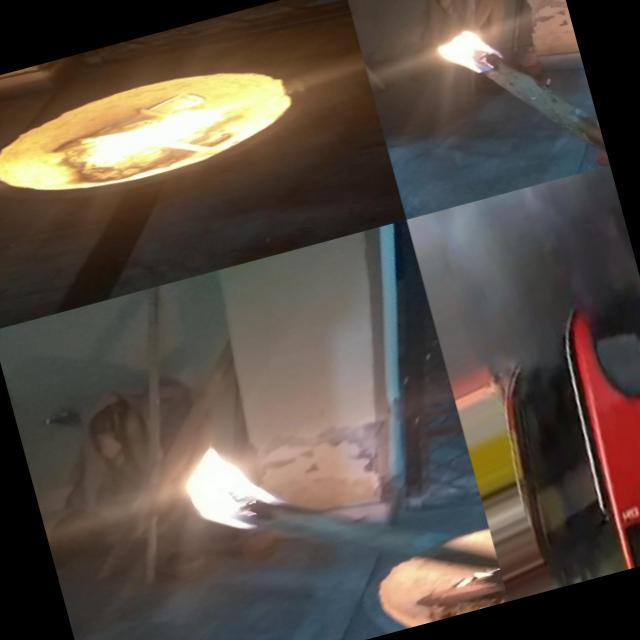fire: (162, 414, 308, 546), (70, 84, 262, 180), (428, 20, 502, 90)
smoke: (437, 163, 640, 395)
